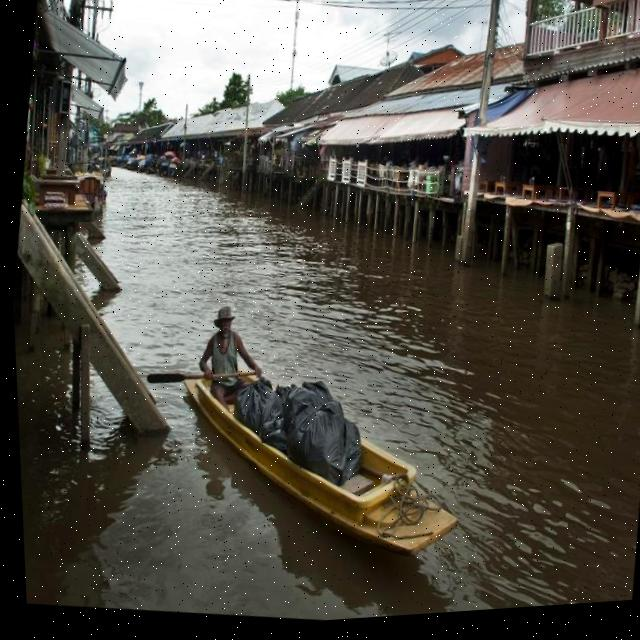civilian: (185, 290, 276, 415)
